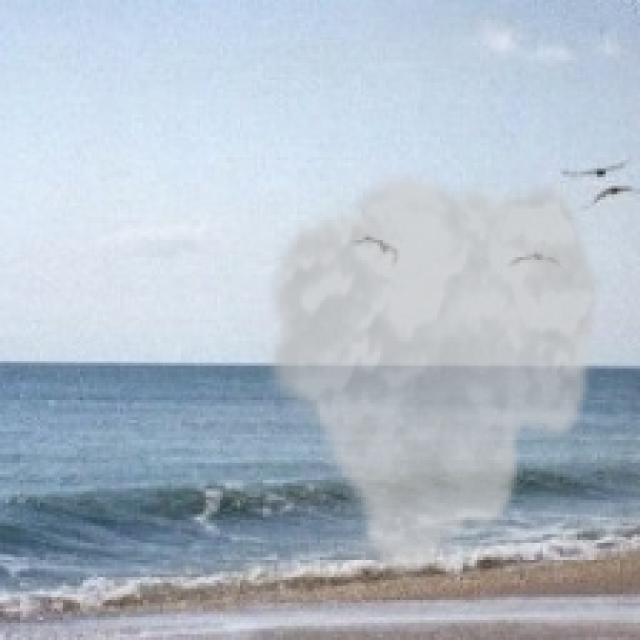smoke: (257, 166, 606, 588)
